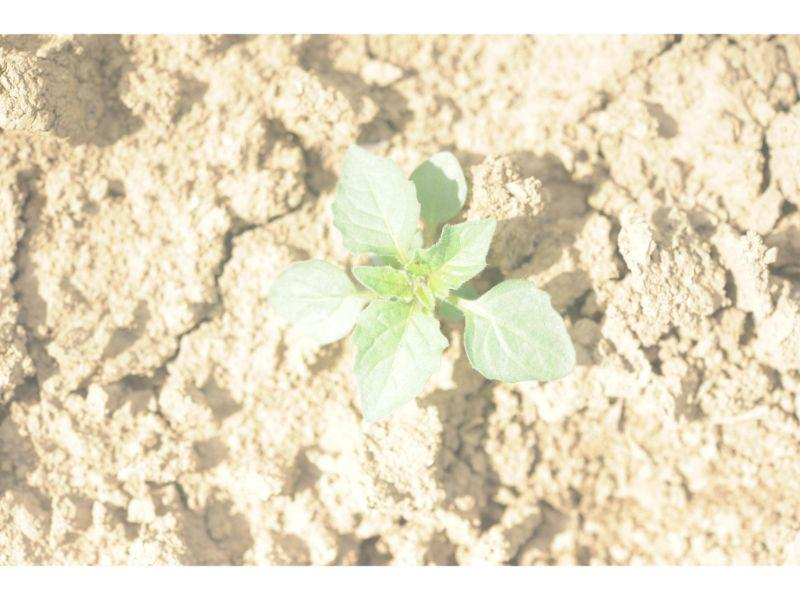nightshade: (269, 138, 577, 422)
